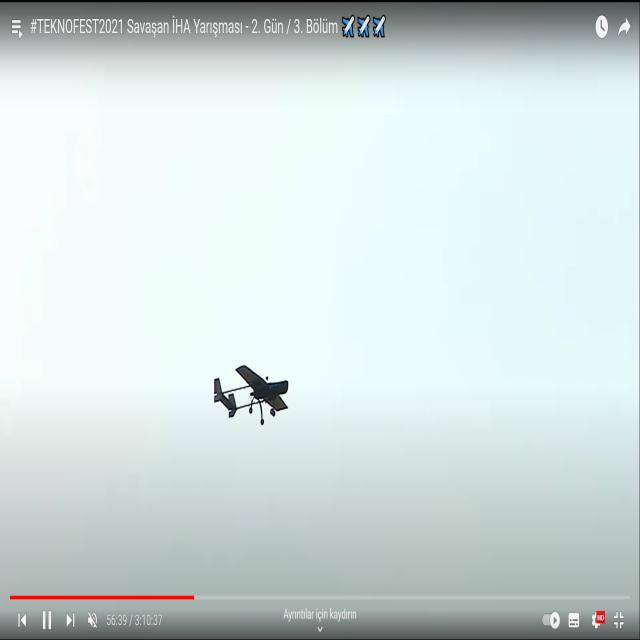iha: (248, 357, 254, 418)
